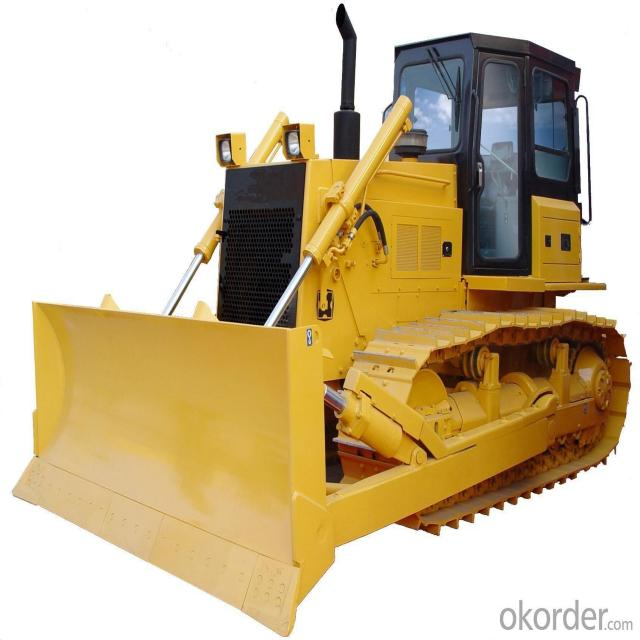Bulldozer: (8, 19, 630, 627)
